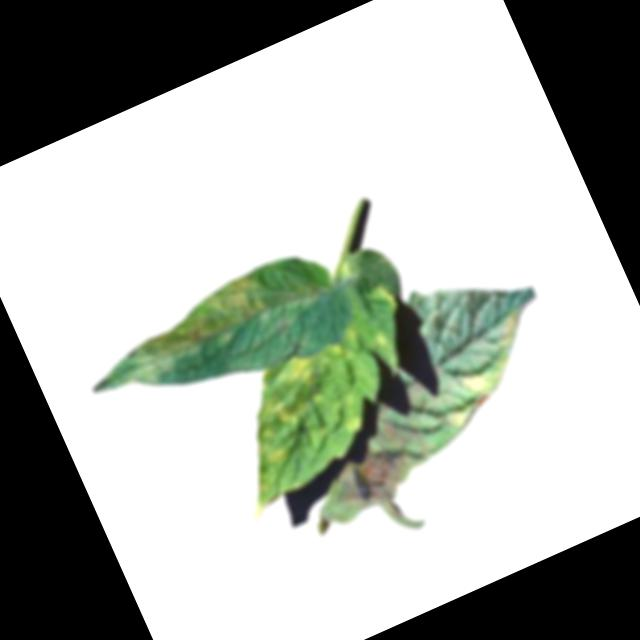Leaf_Mold: (72, 268, 282, 406), (417, 310, 554, 435), (281, 347, 330, 395), (267, 389, 318, 434), (256, 437, 290, 470)
